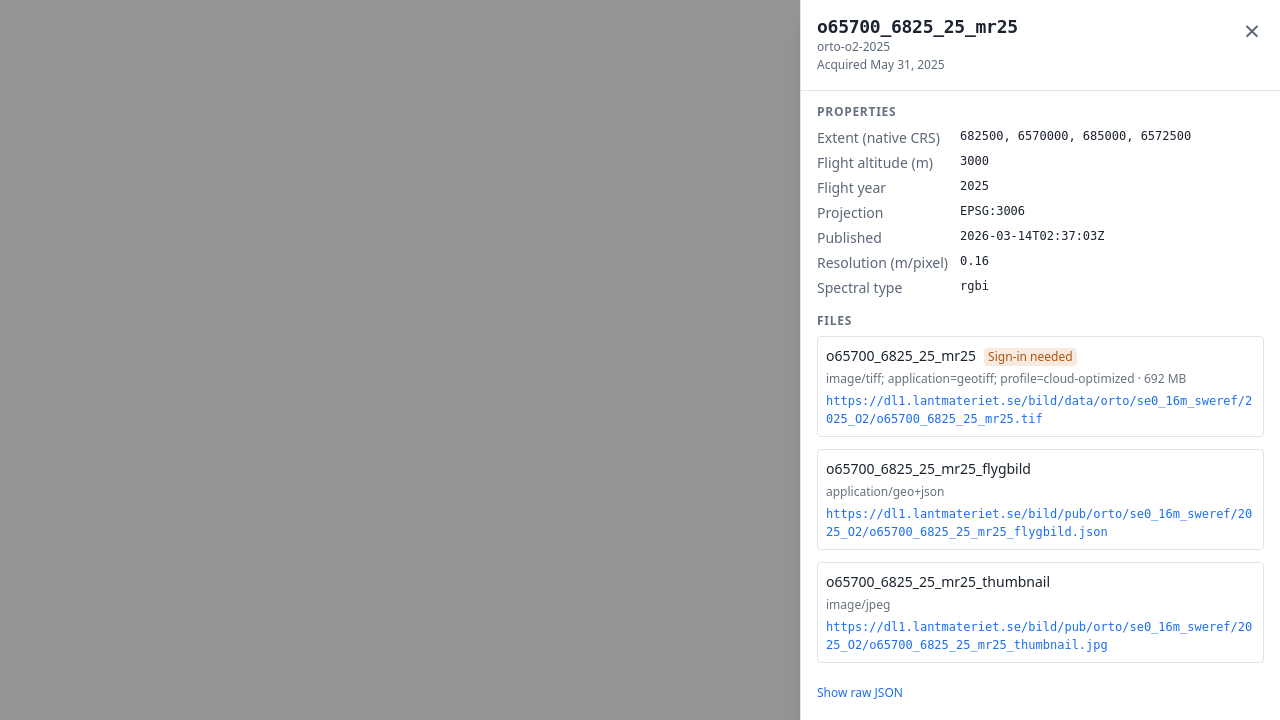
it: accessibility › resets the raw view between items
(page scrolled)
Note: Otherwise the next item opens scrolled into a wall of JSON.
Click the button with class "raw-toggle": [860, 693] box [817,684,903,702]
(page scrolled)
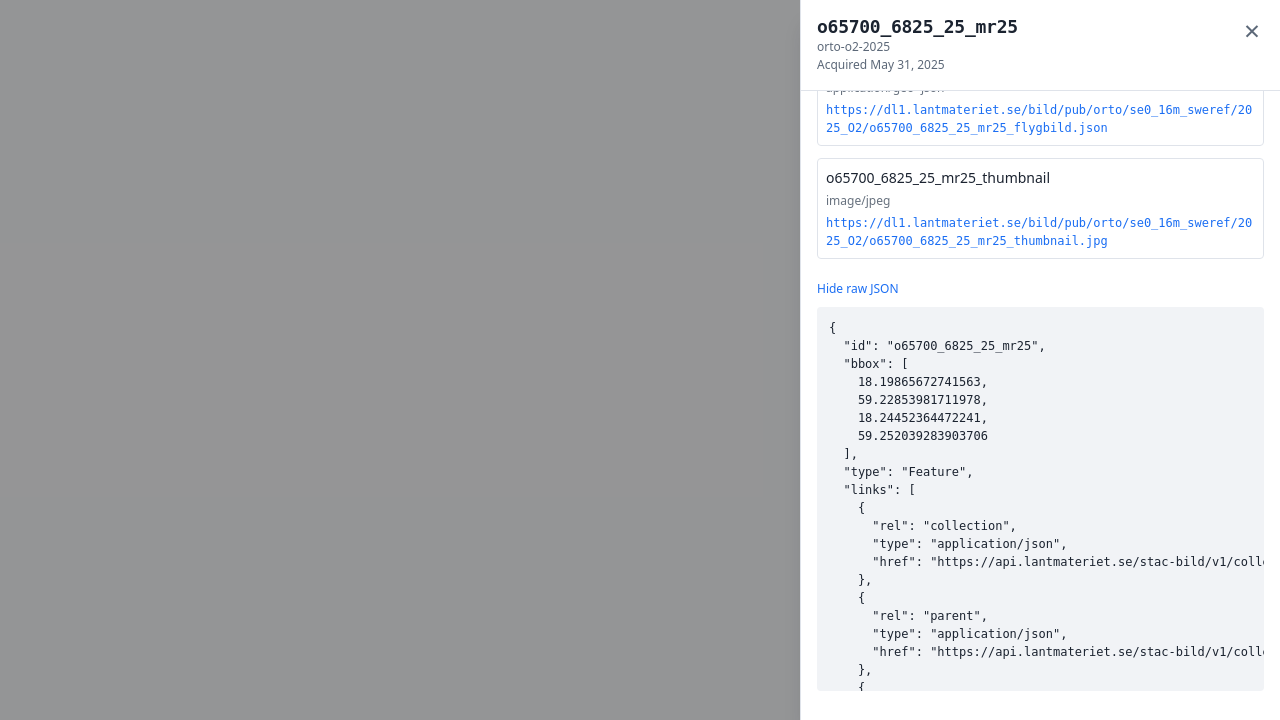
Now the text with class "raw" is shown, box [817,307,1264,691]
